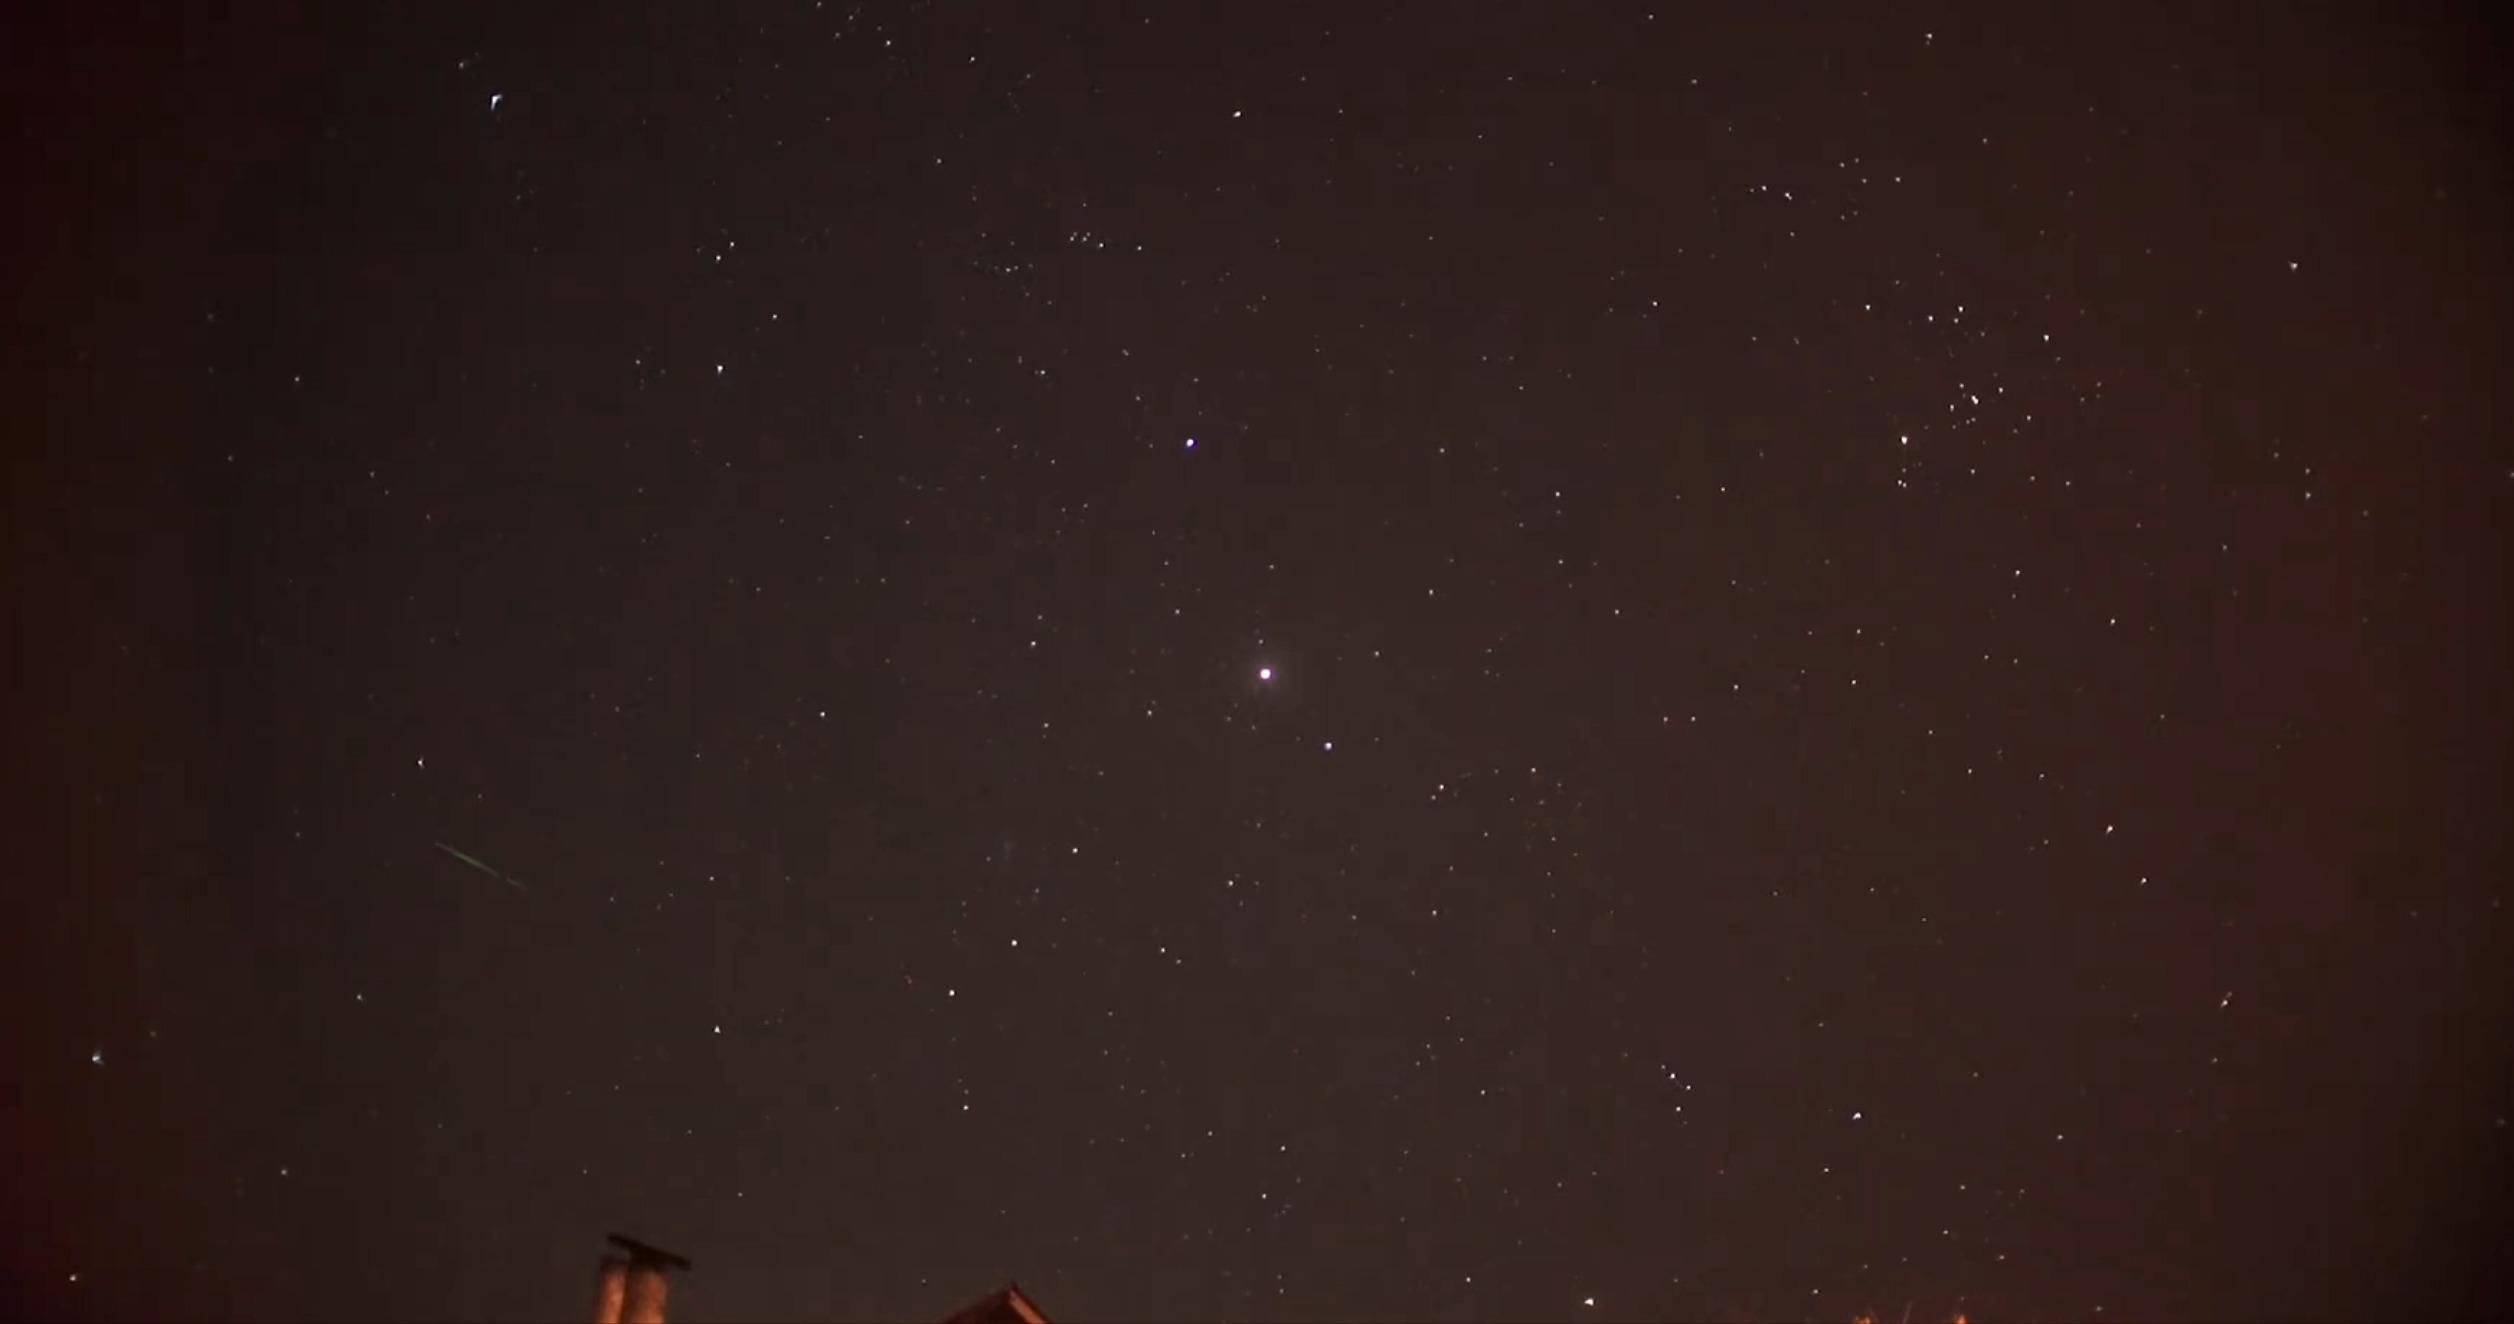meteorite: (416, 833, 569, 918)
